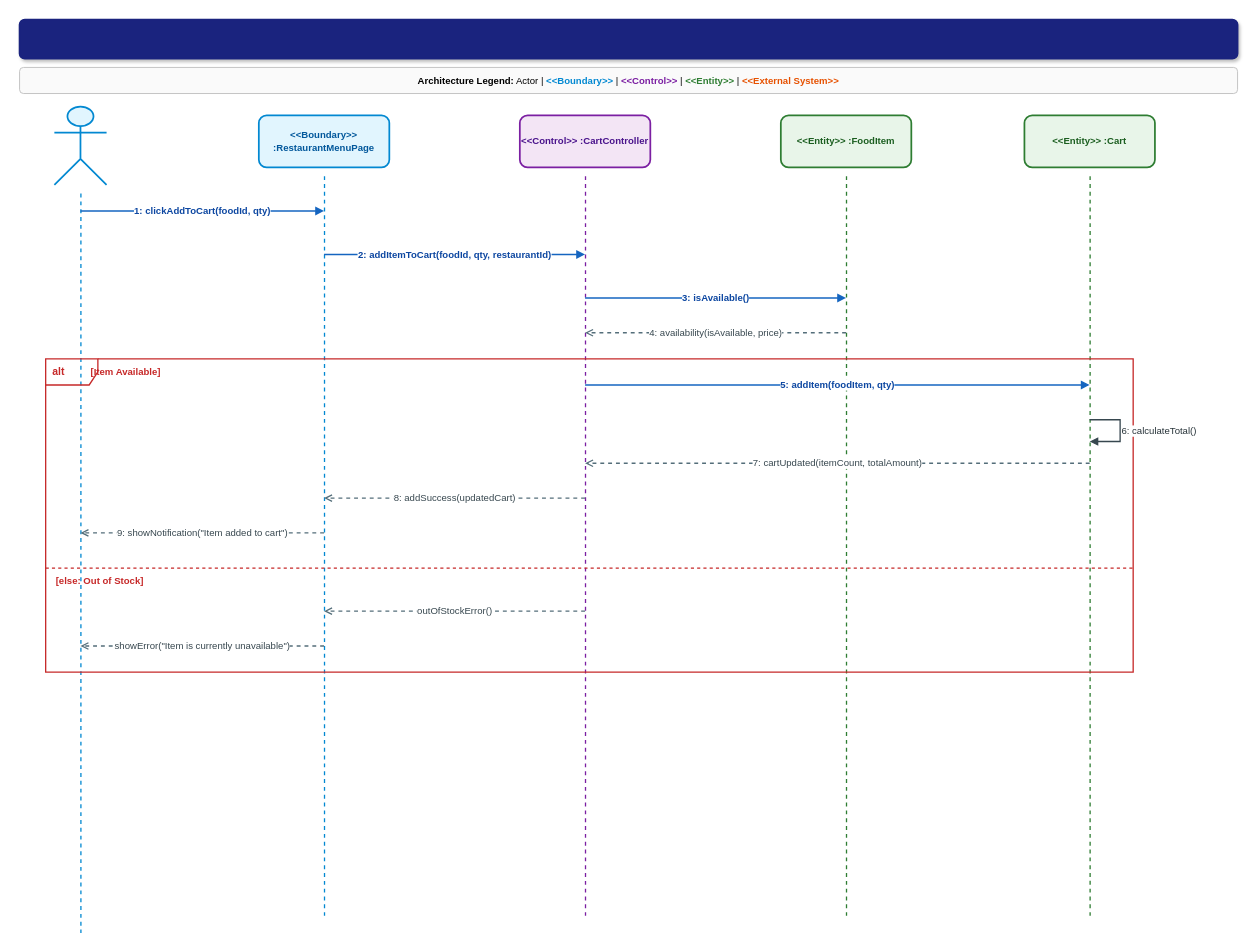
The diagram is 1258 pixels wide and 948 high, and some of its shapes have lost their labels. The centre of each missing label's shape, as x and y in pixels:
Customer: the point at 80,145
ONLINE FOOD ORDERING SYSTEM — ADD FOOD TO CART SEQUENCE DIAGRAM: the point at 629,40
